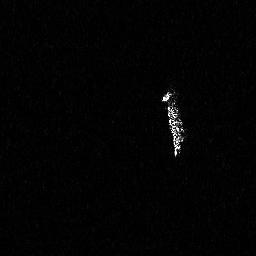ship: (161, 87, 188, 160)
